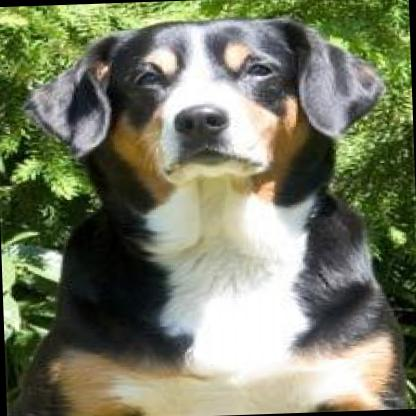EntleBucher: (36, 8, 399, 416)
